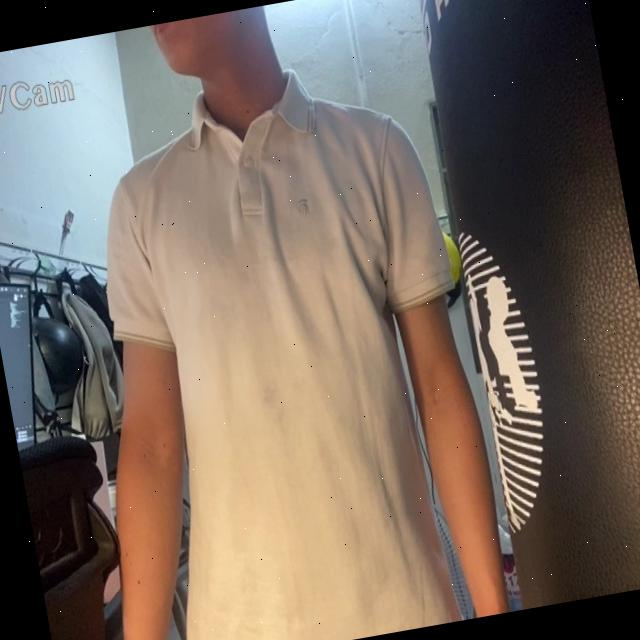u: (107, 72, 457, 640)
